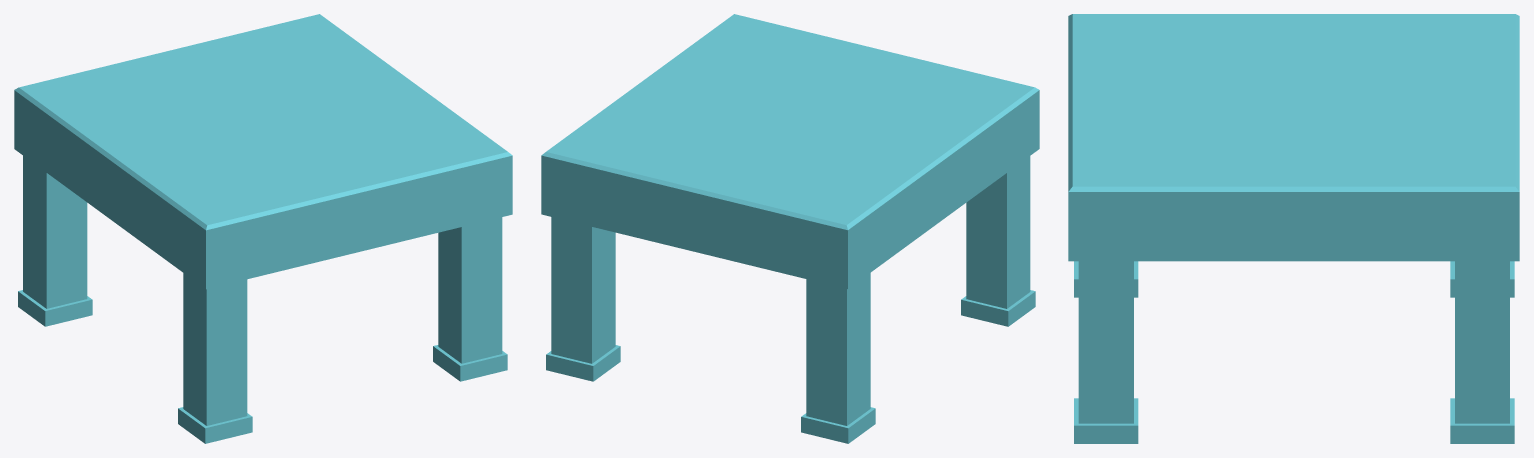
The model's file is Table.fbx.
3 renders of one model, left to right at view 1: azimuth 30°, elevation 25°; view 2: azimuth 150°, elevation 25°; view 3: azimuth 270°, elevation 25°, orthographic. The views are drawn at different scales.
Visible parts, largest first — view 1: pCube5, pCube7, pCube6, pCube8; view 2: pCube5, pCube8, pCube9, pCube7; view 3: pCube5, pCube6, pCube9.
Part boxes in pixels (x1=…): pCube5: x1=14, y1=14, x2=512, y2=289; pCube7: x1=178, y1=273, x2=252, y2=443; pCube6: x1=433, y1=217, x2=507, y2=381; pCube8: x1=18, y1=155, x2=92, y2=326; pCube5: x1=541, y1=14, x2=1039, y2=288; pCube8: x1=801, y1=273, x2=875, y2=443; pCube9: x1=546, y1=217, x2=620, y2=381; pCube7: x1=961, y1=156, x2=1035, y2=326; pCube5: x1=1068, y1=14, x2=1519, y2=261; pCube6: x1=1074, y1=261, x2=1138, y2=443; pCube9: x1=1450, y1=261, x2=1514, y2=443.
Bounding box in the file's own units: 1.86 × 1.27 × 2.01.
